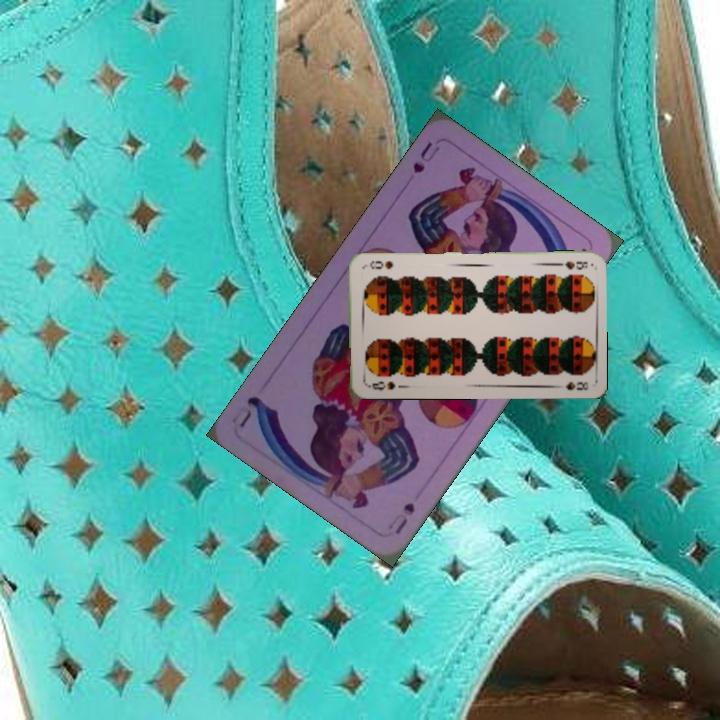S8: (362, 375, 398, 393), (550, 257, 590, 272)
SU: (408, 138, 443, 176), (384, 498, 418, 537)
